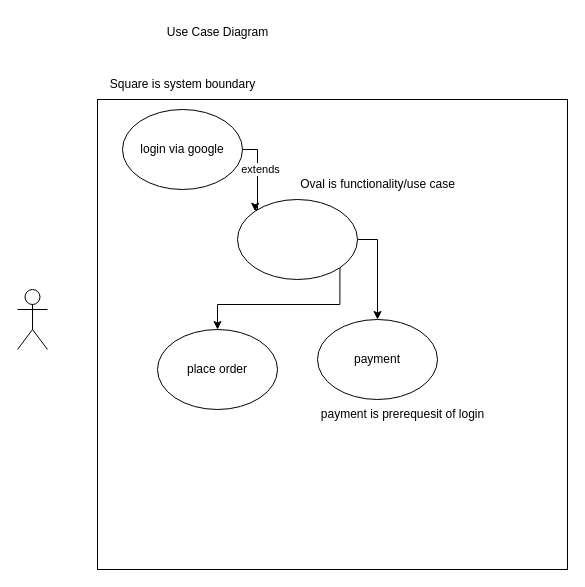
The diagram is 585 pixels wide and 587 high, and some of its shapes have lost their labels. The shapes that lost their labels are listed below. From the top down, each one's box as (x1, y1, x2, y2) in pixels, then its label:
(236, 198, 358, 280): Login
(16, 288, 48, 350): Actor
